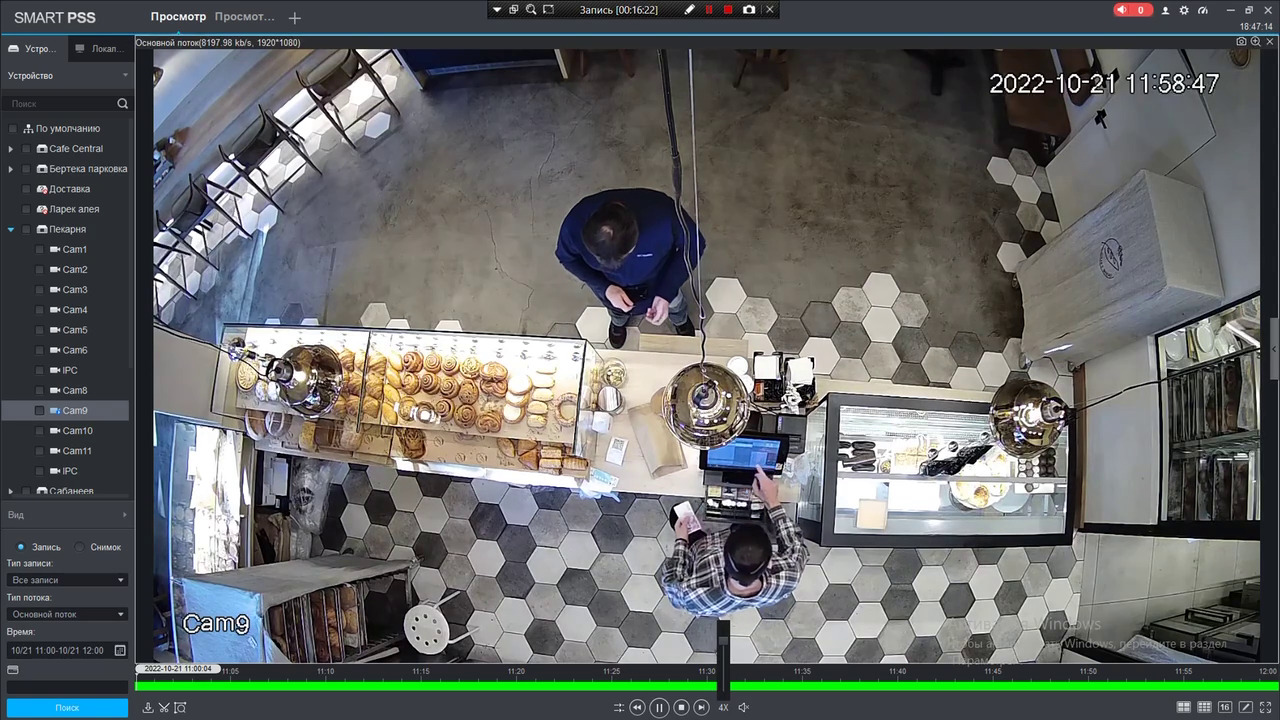pack: (624, 396, 692, 483)
person: (542, 191, 697, 343)
